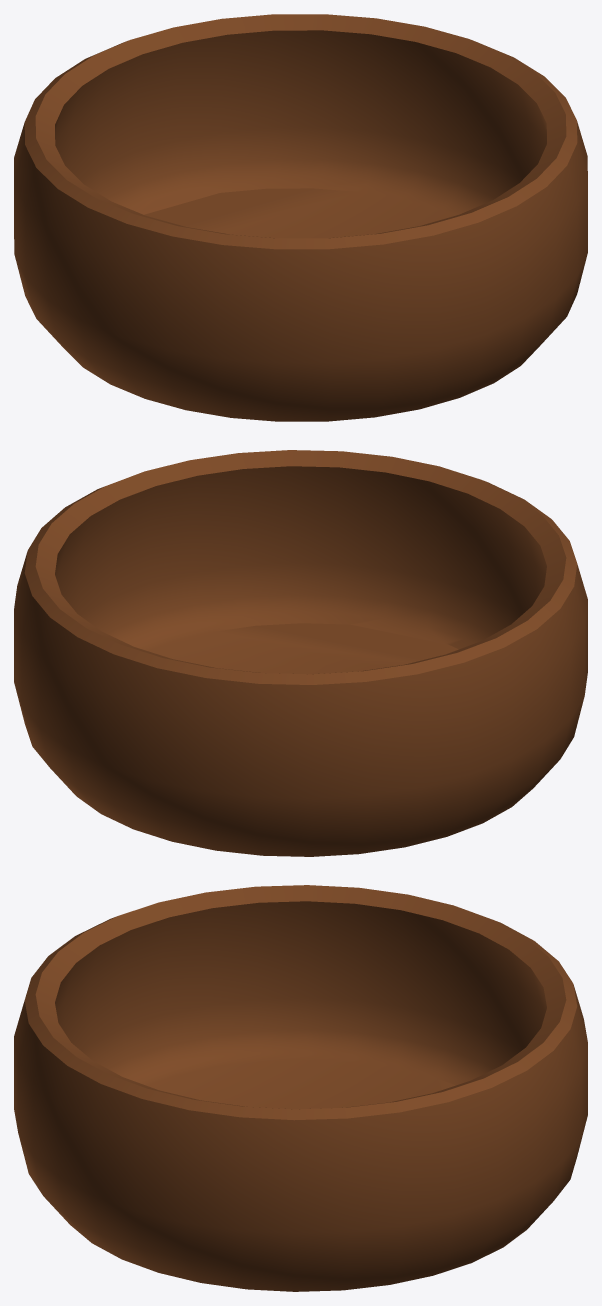
The model's file is Tazon.fbx.
3 views of the same model, one above another, from view 1: azimuth 30°, elevation 25°; view 2: azimuth 150°, elevation 25°; view 3: azimuth 270°, elevation 25° (orthographic).
Parts seen in each view (by area): view 1: Cylinder.004; view 2: Cylinder.004; view 3: Cylinder.004.
Part boxes in pixels (x1,y1,x2,y2): Cylinder.004: (14, 14, 587, 421); Cylinder.004: (14, 450, 587, 856); Cylinder.004: (14, 885, 587, 1291).
Size of the model in its own units: 106 by 38.86 by 106.
